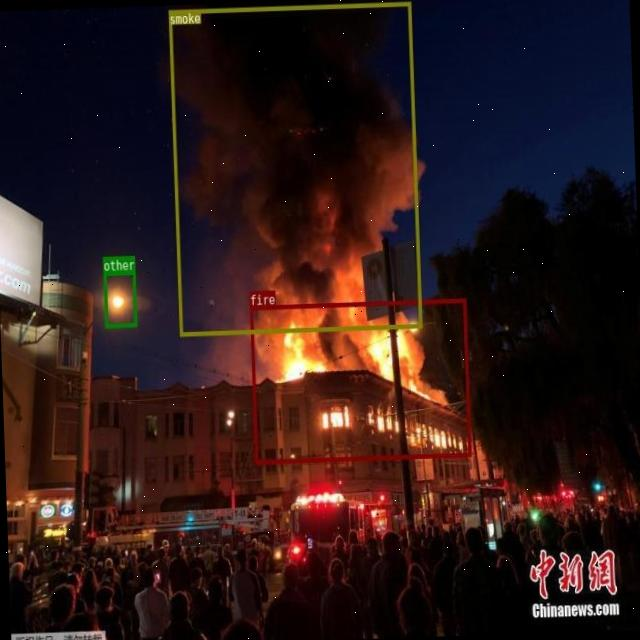fire: (248, 297, 471, 463)
smoke: (168, 2, 421, 335)
